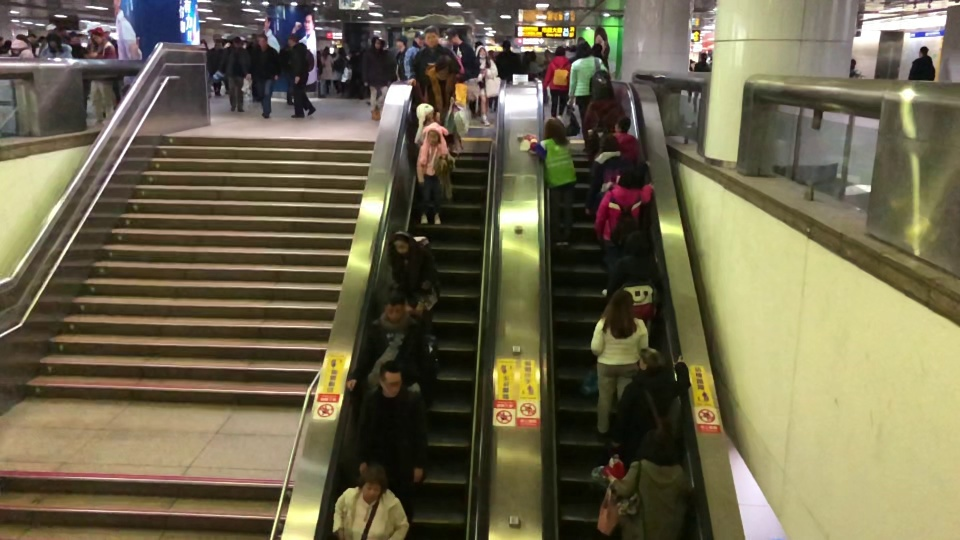person_head: (644, 424, 682, 466), (359, 464, 387, 502), (377, 359, 403, 396), (381, 291, 407, 321), (607, 289, 633, 316), (624, 231, 650, 256), (638, 348, 665, 371), (617, 166, 641, 189), (544, 116, 565, 140), (434, 55, 453, 80), (593, 78, 615, 99), (392, 233, 410, 252), (599, 133, 617, 151), (424, 25, 438, 48), (614, 116, 633, 132), (444, 26, 460, 44), (46, 32, 61, 47), (575, 41, 591, 55), (426, 128, 439, 145), (395, 34, 408, 50), (10, 39, 25, 51), (91, 28, 102, 42), (257, 33, 268, 47), (414, 31, 424, 46), (287, 34, 300, 45), (918, 45, 929, 56), (554, 46, 566, 56), (372, 36, 381, 48), (478, 46, 486, 58), (232, 37, 241, 47), (501, 40, 510, 50), (338, 46, 346, 56), (594, 42, 602, 52), (700, 51, 707, 62), (850, 59, 856, 68), (323, 47, 329, 55)
person_vbox: (355, 359, 430, 523), (605, 423, 694, 540), (589, 289, 650, 440), (347, 291, 434, 392), (610, 348, 692, 445), (593, 167, 655, 295), (523, 116, 578, 247), (331, 464, 409, 540), (584, 132, 650, 215), (606, 230, 663, 320), (391, 232, 440, 331), (566, 41, 609, 152), (415, 122, 451, 225), (582, 78, 626, 162), (84, 28, 117, 125), (412, 25, 462, 84), (406, 55, 457, 110), (286, 34, 318, 119), (250, 33, 279, 118), (220, 37, 250, 110), (542, 45, 571, 119), (361, 35, 388, 111), (444, 26, 480, 79), (477, 46, 498, 126), (613, 117, 640, 161), (906, 46, 936, 81), (693, 50, 710, 111), (495, 39, 521, 78), (403, 30, 424, 78), (40, 32, 73, 58), (320, 47, 338, 94), (334, 47, 350, 96), (394, 33, 410, 80), (8, 37, 34, 59), (849, 59, 864, 79)
